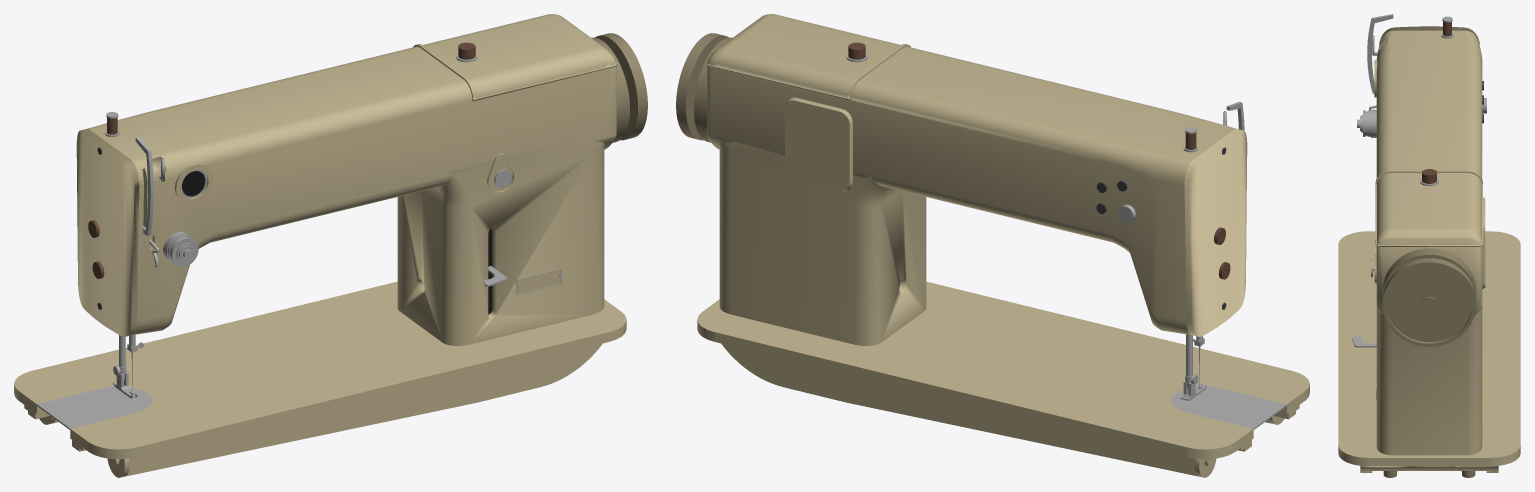
File: S2_sewingMachin.fbx
The picture shows the model from 3 angles, left to right: view 1: azimuth 30°, elevation 25°; view 2: azimuth 150°, elevation 25°; view 3: azimuth 270°, elevation 25°; orthographic projection. The views are drawn at different scales.
Visible parts, largest first — view 1: G-Object.015, G-Object.005, G-Object.014, _G-Object (Loose Mesh), G-Object.008, G-Object.016, G-Object.007, G-Object.012, G-Object.010, G-Object.011, G-Object.001; view 2: G-Object.015, G-Object.005, G-Object.014, _G-Object (Loose Mesh), G-Object.008, G-Object.003, G-Object.016, G-Object.007, G-Object.011; view 3: G-Object.015, G-Object.005, G-Object.014, G-Object.016, _G-Object (Loose Mesh), G-Object.001, G-Object.010, G-Object.008, G-Object.003.
Part boxes in pixels (left/top/right/bottom): G-Object.015: left=88, top=14, right=616, bottom=334; G-Object.005: left=14, top=281, right=626, bottom=459; G-Object.014: left=397, top=137, right=604, bottom=345; _G-Object (Loose Mesh): left=39, top=42, right=617, bottom=477; G-Object.008: left=76, top=128, right=139, bottom=336; G-Object.016: left=591, top=33, right=647, bottom=142; G-Object.007: left=37, top=386, right=152, bottom=429; G-Object.012: left=175, top=163, right=213, bottom=204; G-Object.010: left=163, top=231, right=198, bottom=266; G-Object.011: left=113, top=334, right=143, bottom=398; G-Object.001: left=135, top=136, right=153, bottom=235; G-Object.015: left=707, top=14, right=1235, bottom=334; G-Object.005: left=697, top=281, right=1309, bottom=459; G-Object.014: left=719, top=141, right=926, bottom=345; _G-Object (Loose Mesh): left=706, top=42, right=1284, bottom=477; G-Object.008: left=1184, top=128, right=1247, bottom=336; G-Object.003: left=785, top=97, right=852, bottom=190; G-Object.016: left=676, top=33, right=732, bottom=142; G-Object.007: left=1171, top=386, right=1286, bottom=429; G-Object.011: left=1180, top=334, right=1206, bottom=401; G-Object.015: left=1376, top=30, right=1482, bottom=315; G-Object.005: left=1338, top=231, right=1520, bottom=466; G-Object.014: left=1376, top=306, right=1482, bottom=455; G-Object.016: left=1382, top=248, right=1475, bottom=346; _G-Object (Loose Mesh): left=1351, top=16, right=1498, bottom=477; G-Object.001: left=1367, top=14, right=1393, bottom=93; G-Object.010: left=1357, top=109, right=1376, bottom=137; G-Object.008: left=1379, top=26, right=1479, bottom=43; G-Object.003: left=1482, top=197, right=1485, bottom=288.
Size of the model in its own units: 294 by 163 by 93.89.
